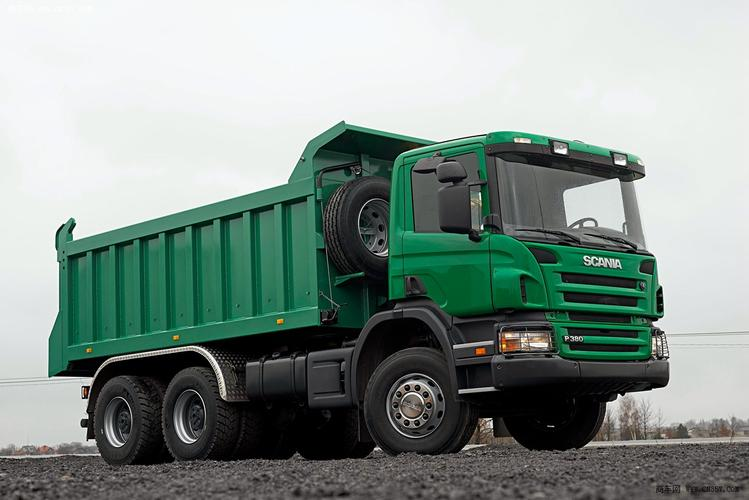卡车: (38, 105, 693, 458)
